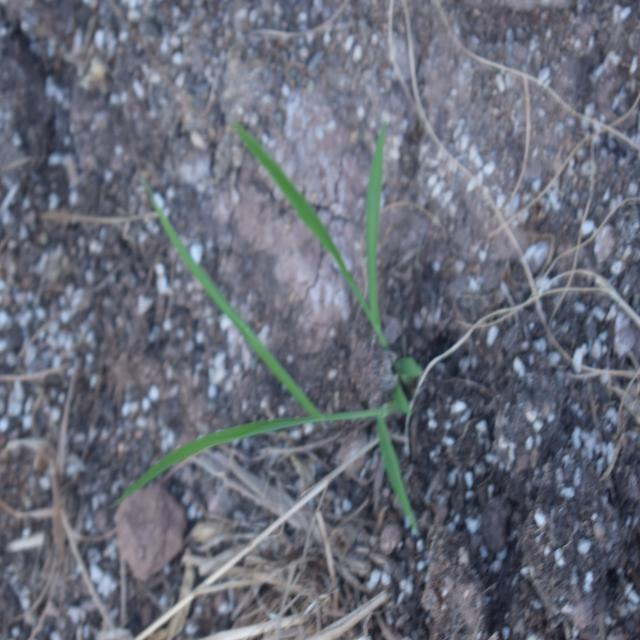crabgrass: (144, 126, 446, 527)
